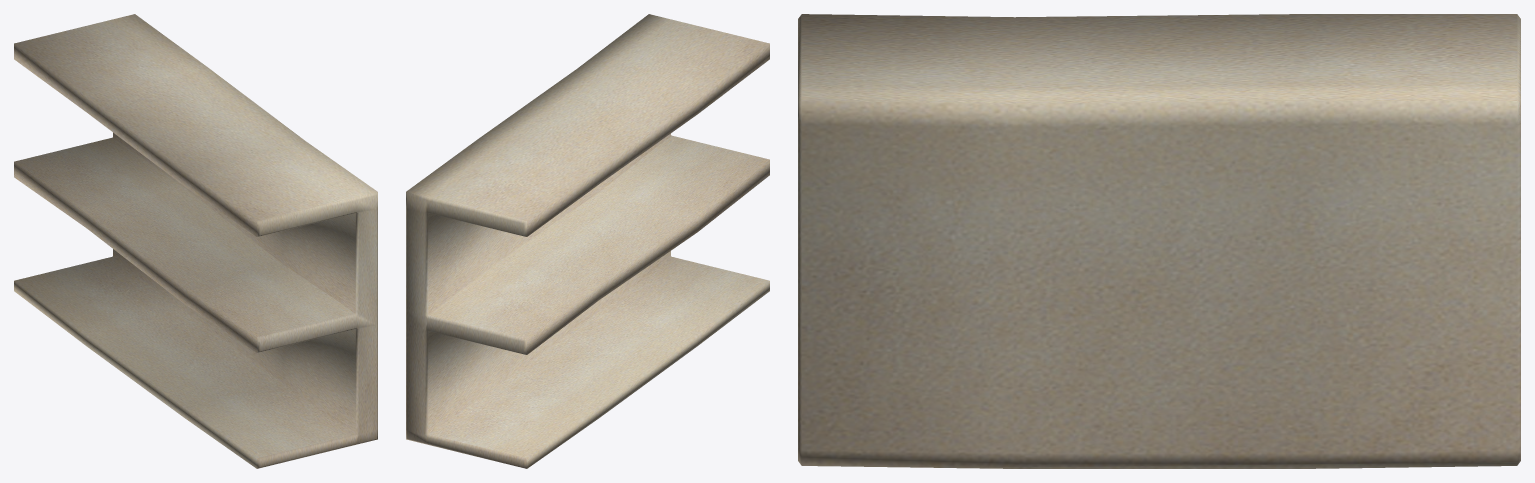
File: shelf_medium.FBX
3 renders of one model, left to right at view 1: azimuth 30°, elevation 25°; view 2: azimuth 150°, elevation 25°; view 3: azimuth 270°, elevation 25°, orthographic. The views are drawn at different scales.
Visible parts, largest first — view 1: Box003; view 2: Box003; view 3: Box003.
Boxes of the visible parts, <box> form: Box003: <box>14,14,377,468</box>; Box003: <box>406,14,769,468</box>; Box003: <box>798,14,1520,468</box>.
Size of the model in its own units: 20.3 by 71.35 by 40.09.
